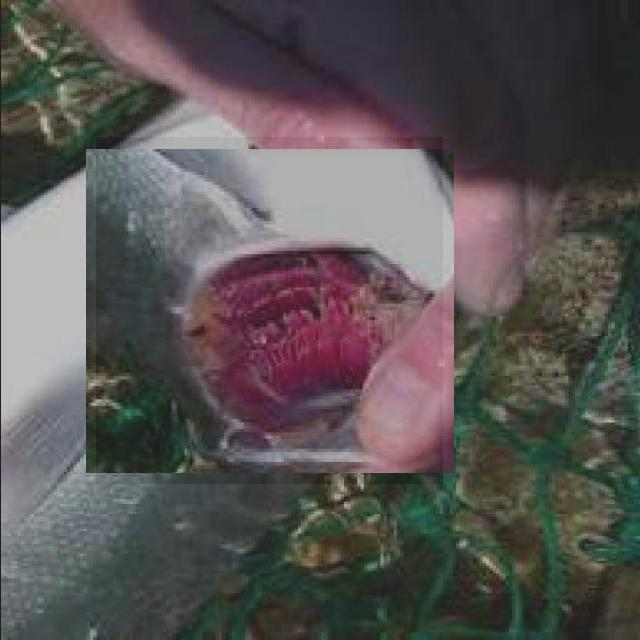Gill Disease: (95, 137, 442, 484)
